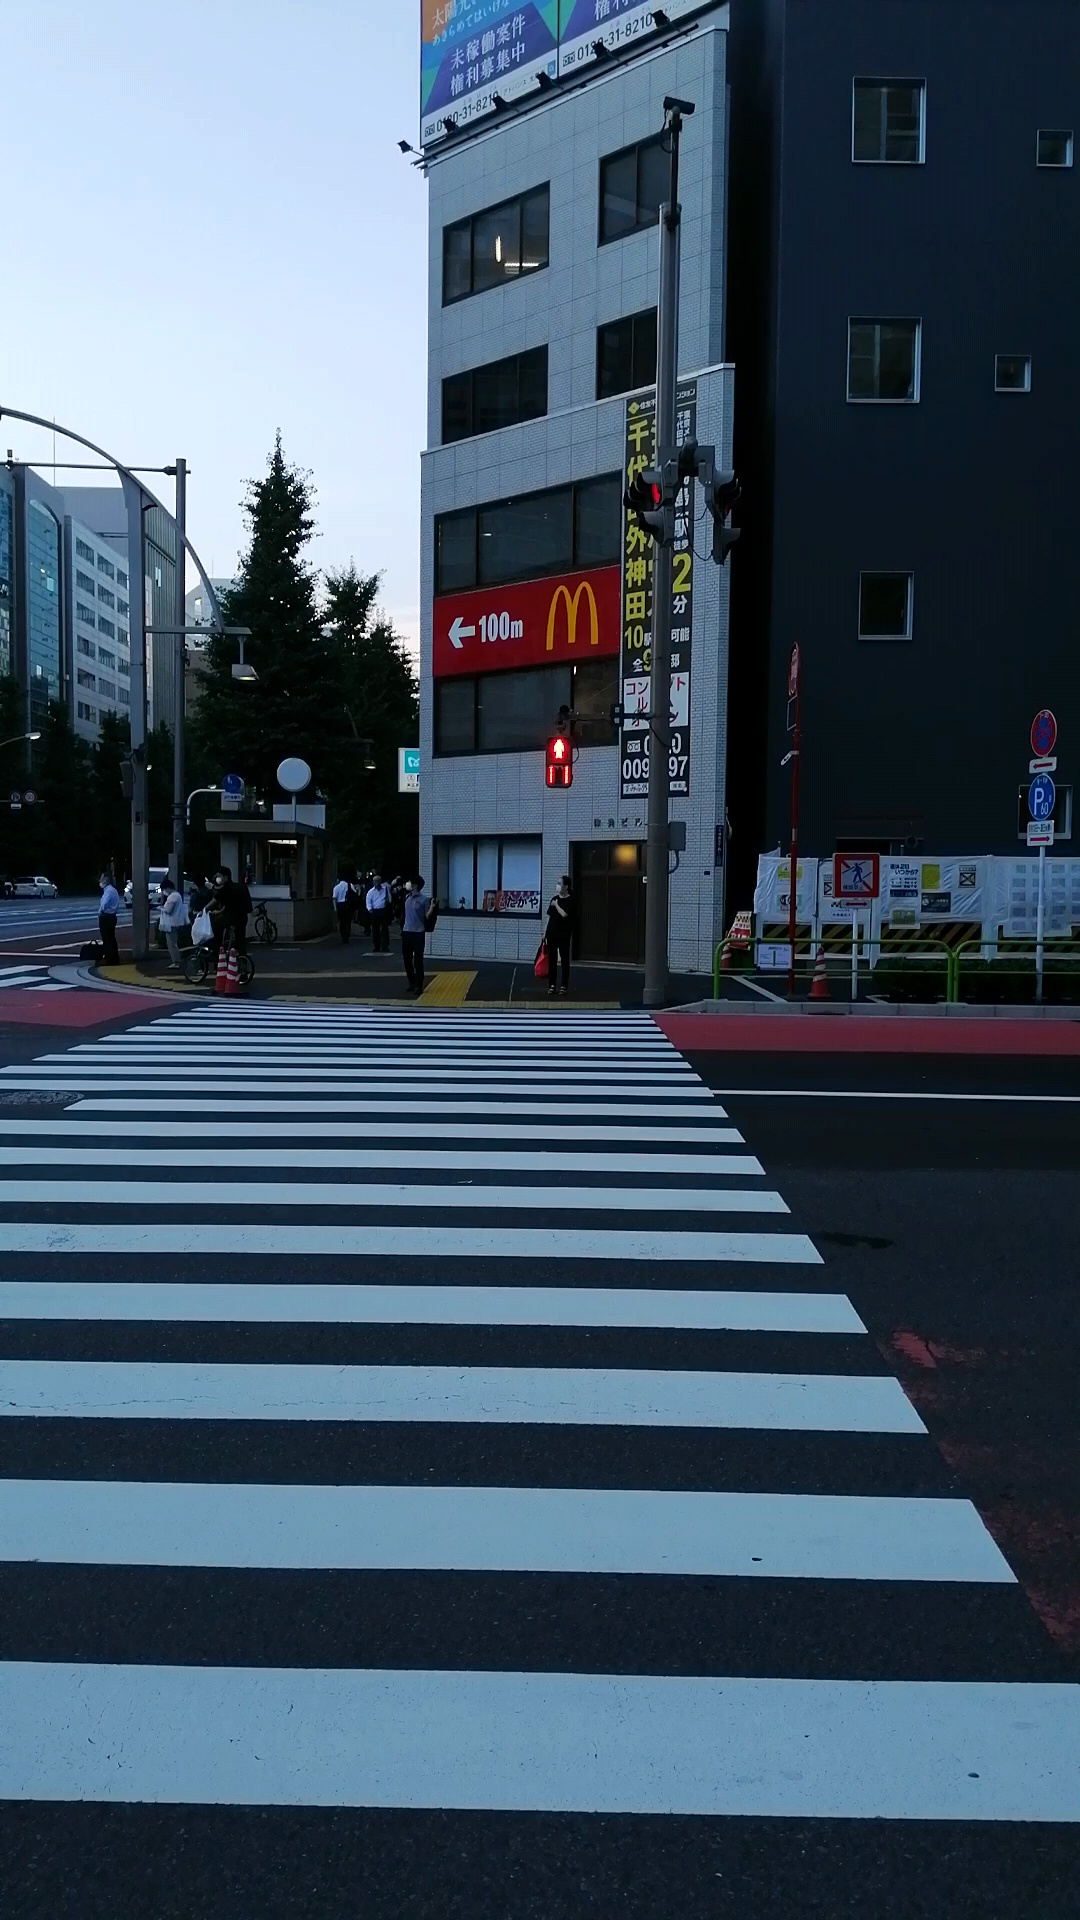red: (545, 736, 572, 790)
